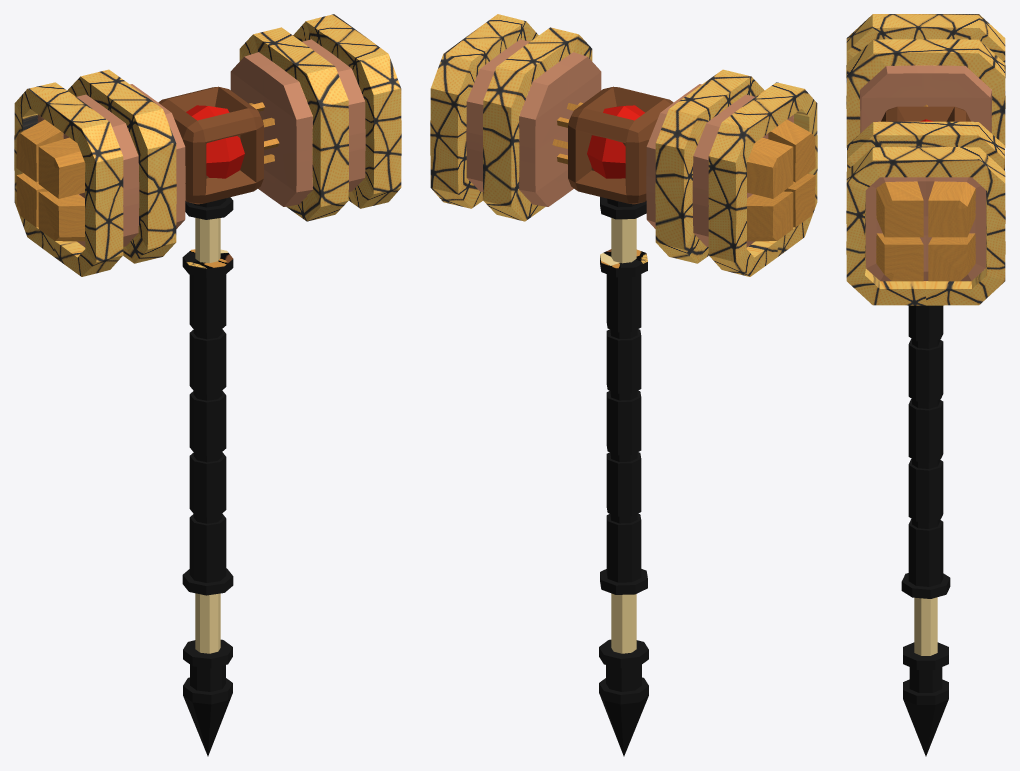
Rendered from Hammer_mtar9a.fbx.
The picture shows the model from 3 angles, left to right: view 1: azimuth 30°, elevation 25°; view 2: azimuth 150°, elevation 25°; view 3: azimuth 270°, elevation 25°; orthographic projection. The views are drawn at different scales.
Visible parts, largest first — view 1: Hammer Weapon.006; view 2: Hammer Weapon.006; view 3: Hammer Weapon.006.
Boxes of the visible parts, box(x1,y1,x2,y2) form: Hammer Weapon.006: box(14, 14, 401, 756); Hammer Weapon.006: box(430, 14, 817, 756); Hammer Weapon.006: box(846, 14, 1005, 756).
Bounding box in the file's own units: 0.8452 × 1.62 × 0.3492.
Materials: 1 (1 with a texture image).
